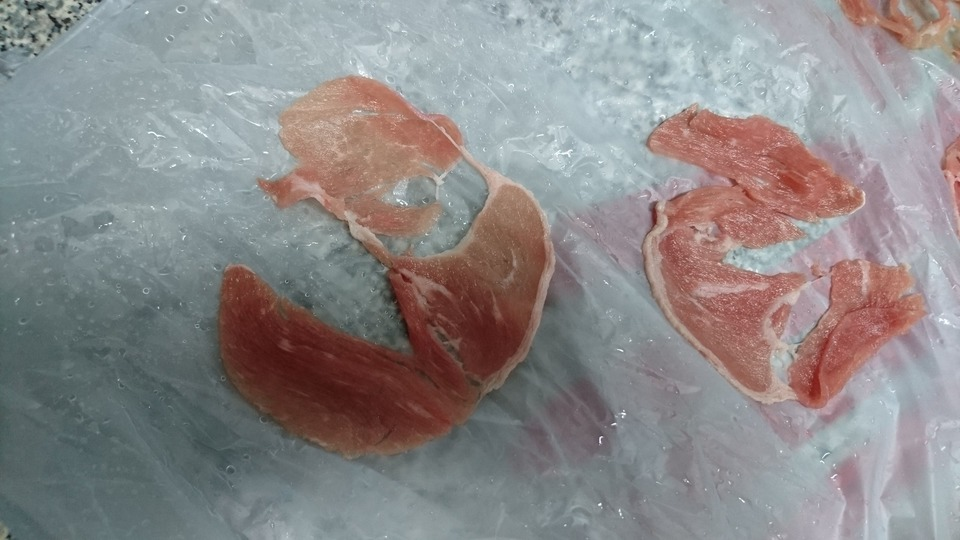restructured meat: (192, 56, 566, 472), (640, 96, 893, 403)
